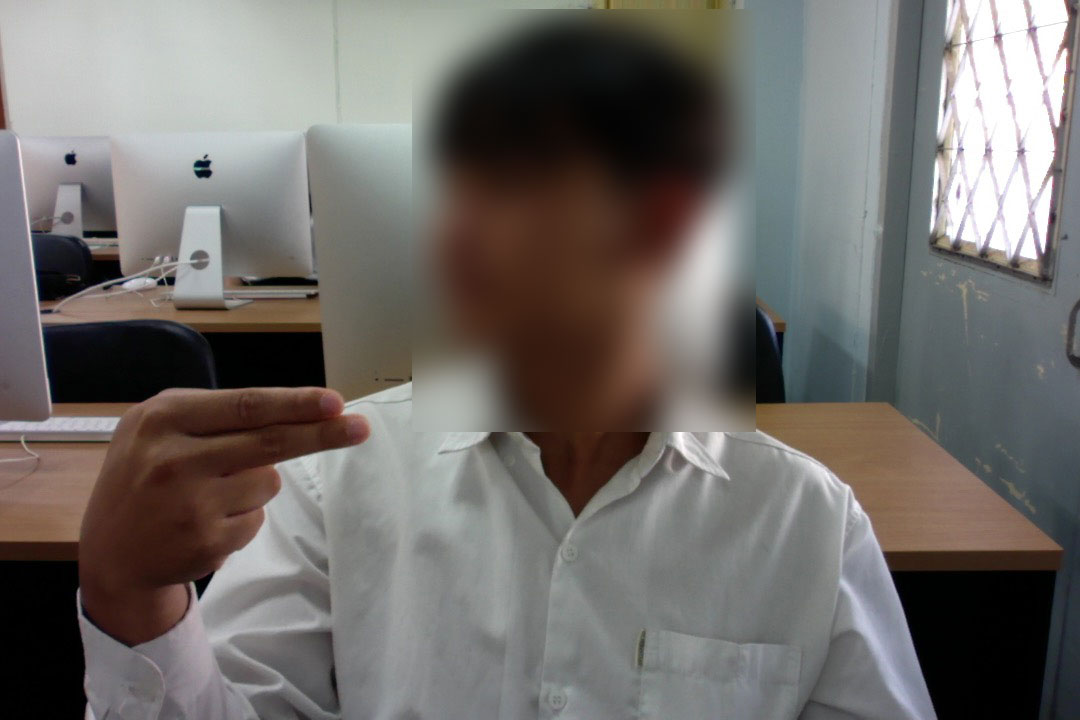hor: (63, 366, 388, 597)
